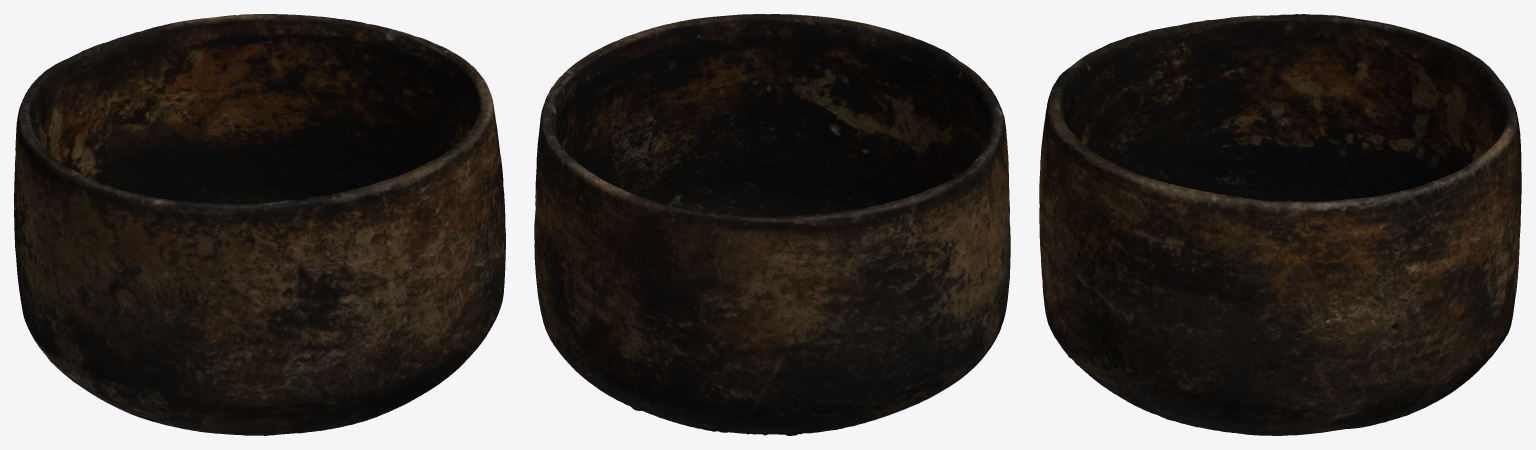
The picture shows the model from 3 angles, left to right: view 1: azimuth 30°, elevation 25°; view 2: azimuth 150°, elevation 25°; view 3: azimuth 270°, elevation 25°; orthographic projection. The views are drawn at different scales.
Parts seen in each view (by area): view 1: Mesh_0.026; view 2: Mesh_0.026; view 3: Mesh_0.026.
Boxes of the visible parts, x1=… form: Mesh_0.026: x1=14, y1=14, x2=505, y2=435; Mesh_0.026: x1=534, y1=14, x2=1010, y2=435; Mesh_0.026: x1=1039, y1=14, x2=1521, y2=435.
Size of the model in its own units: 0.143 by 0.09 by 0.1397.
1 material, 1 textured.
